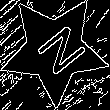N_SW: (23, 19, 85, 81)
